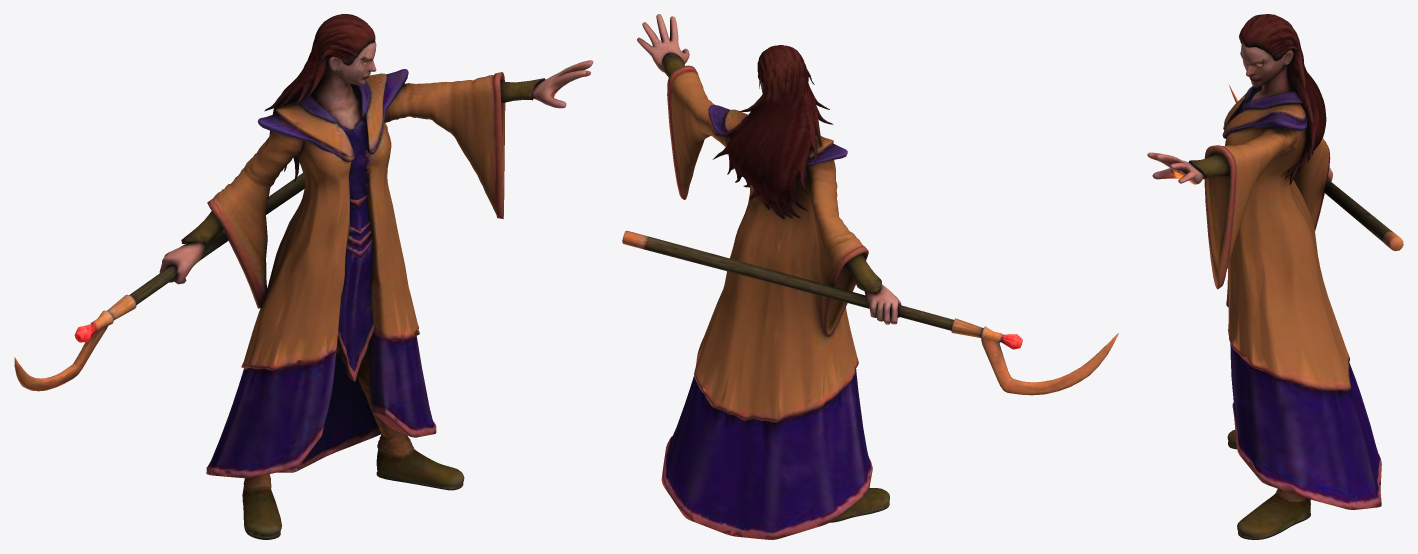
The model's file is MZ4250 - Human Female Evocation Wizard_4.glb.
3 views of the same model, side by side, from view 1: azimuth 30°, elevation 25°; view 2: azimuth 150°, elevation 25°; view 3: azimuth 270°, elevation 25° (orthographic). The views are drawn at different scales.
Visible parts, largest first — view 1: Body.001; view 2: Body.001; view 3: Body.001.
Part boxes in pixels (left/top/right/bottom): Body.001: left=14, top=14, right=593, bottom=539; Body.001: left=622, top=14, right=1118, bottom=539; Body.001: left=1147, top=14, right=1403, bottom=539.
Size of the model in its own units: 1.11 by 0.938 by 0.4577.
Materials: 1 (1 with a texture image).
